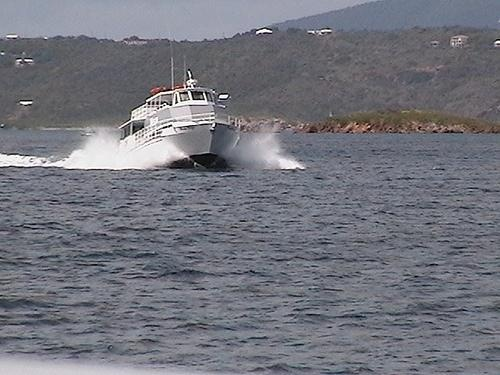boat: (112, 78, 242, 171)
